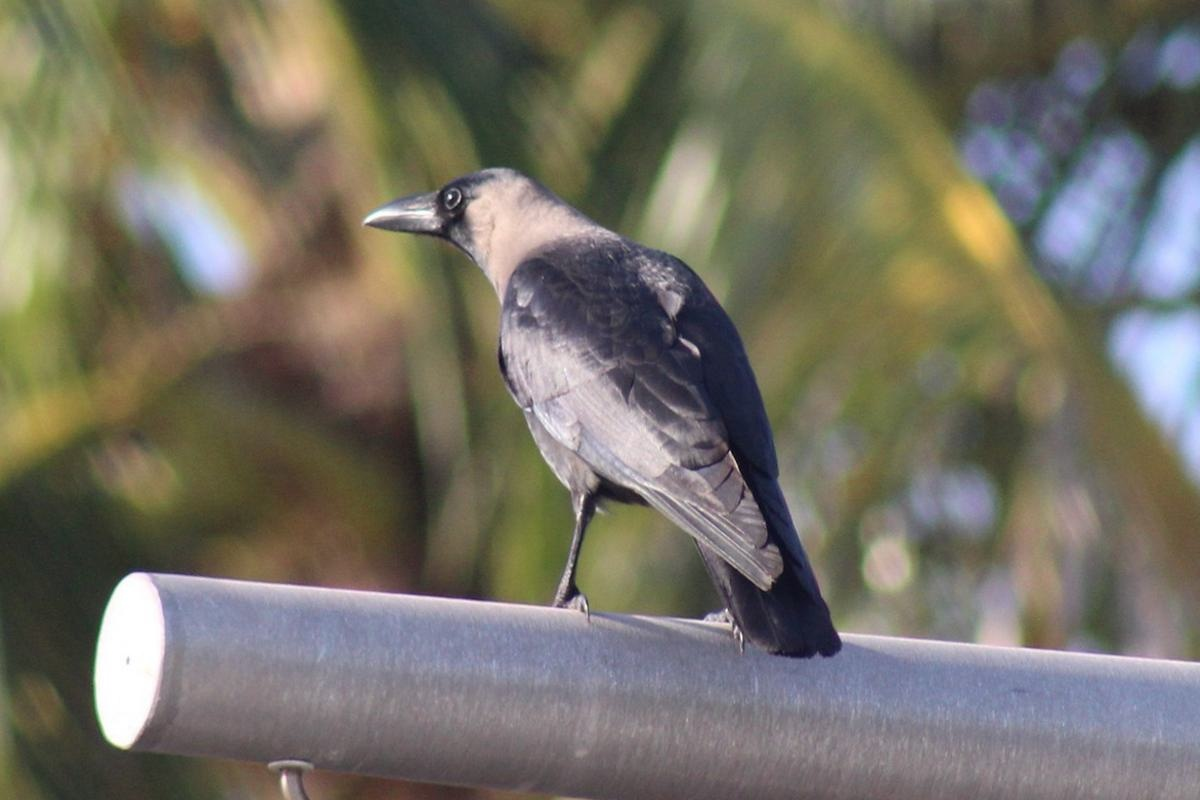crow: (360, 153, 863, 668)
